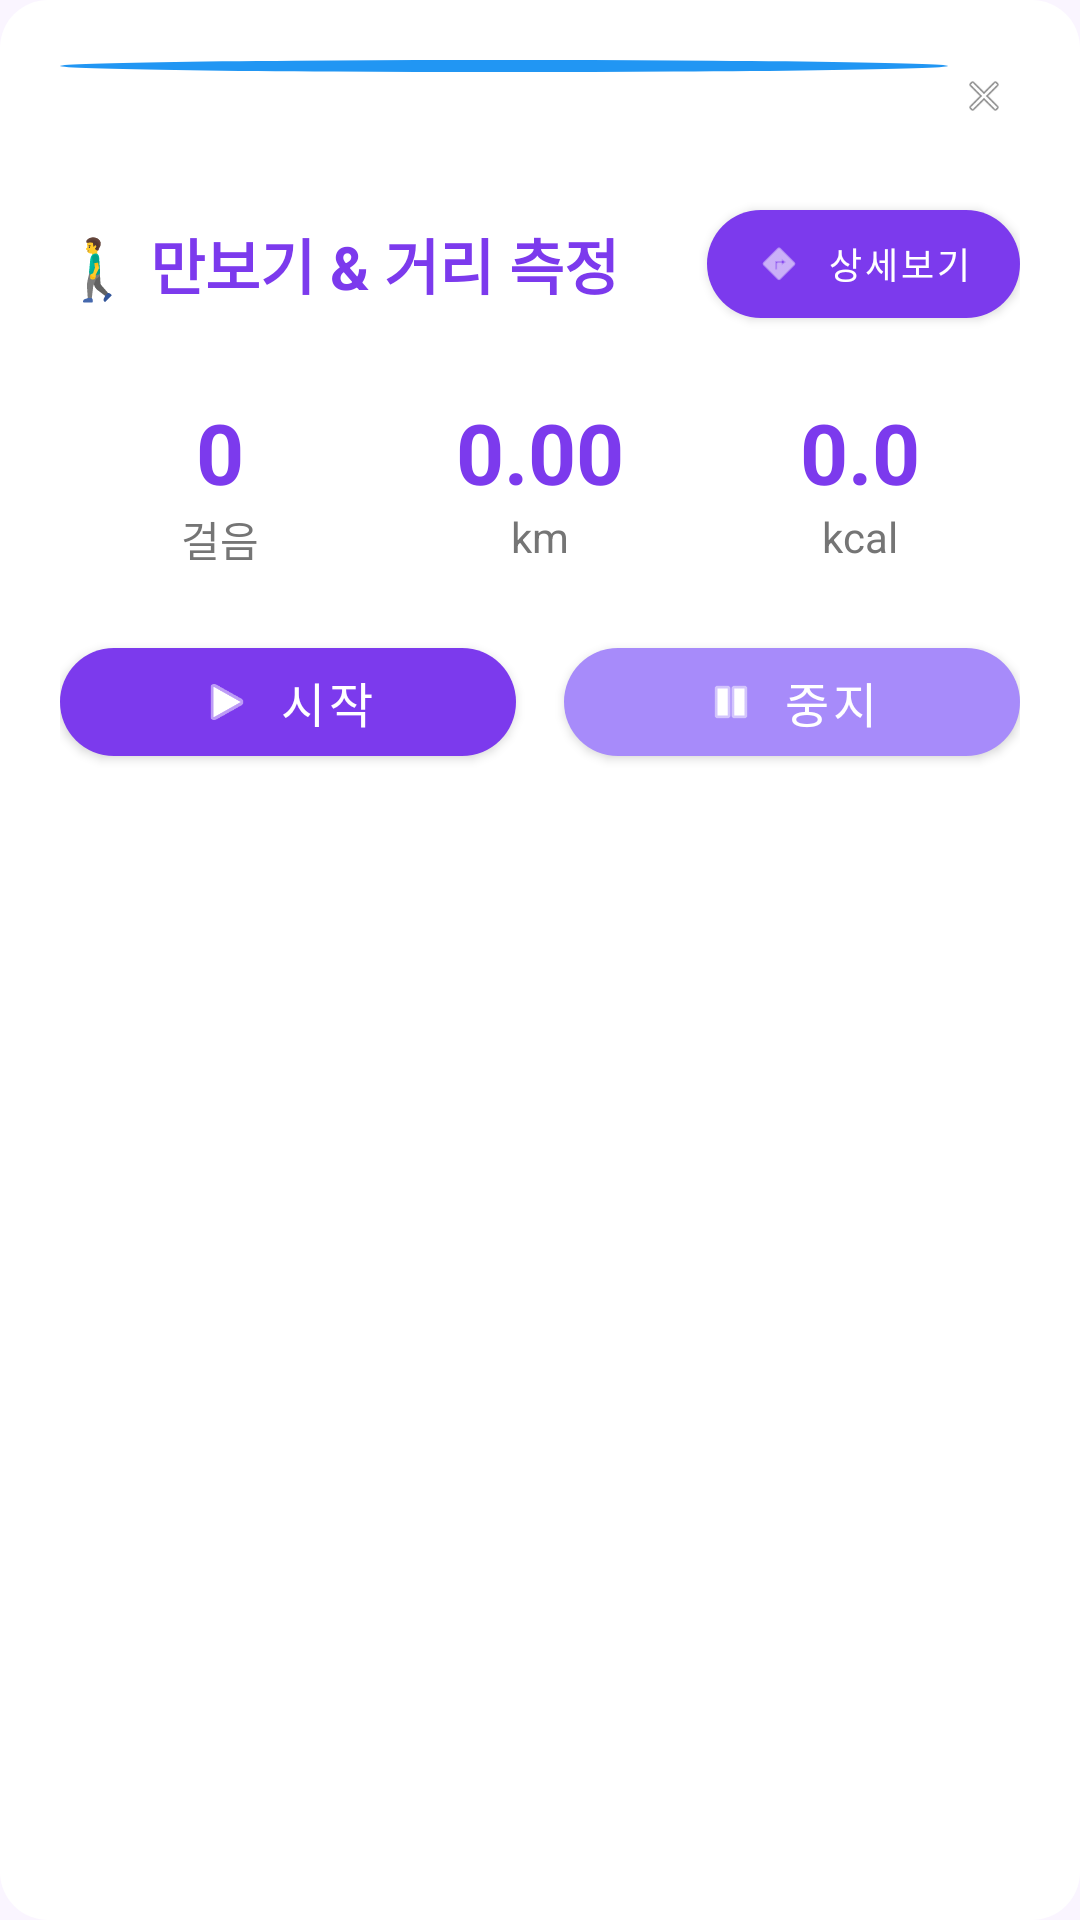

Icon bounding boxes for this 1080 x 1920 phone screenshot, format rect(x1, y1, x2, y2):
close clear cancel: rect(969, 81, 999, 111)
